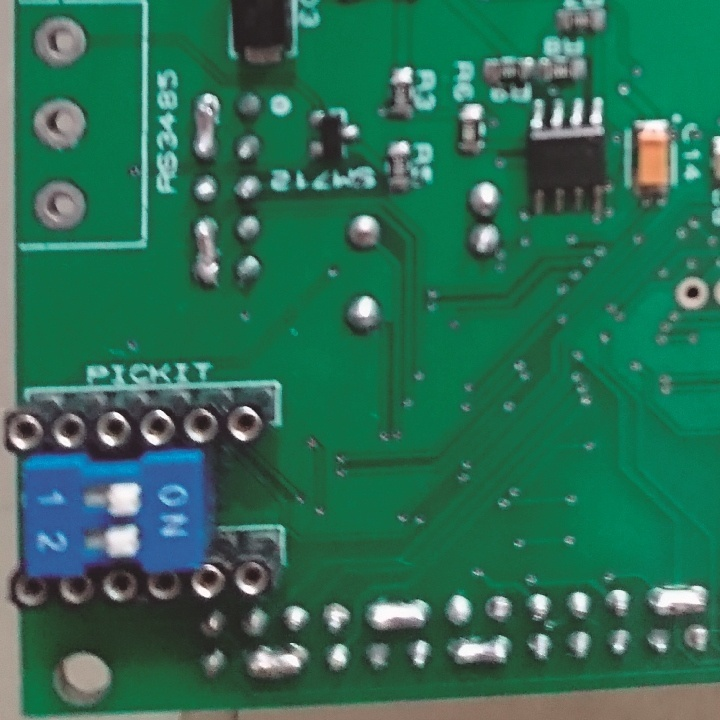F: (30, 96, 96, 156), (33, 176, 93, 235), (27, 13, 91, 68), (674, 275, 709, 313), (319, 598, 351, 635), (682, 620, 714, 655), (486, 592, 515, 625)
P: (244, 645, 311, 684), (190, 215, 224, 289), (363, 598, 433, 632), (645, 581, 710, 617), (445, 633, 511, 667), (190, 89, 219, 164)
